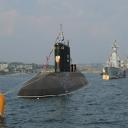submarine: (19, 39, 91, 100)
